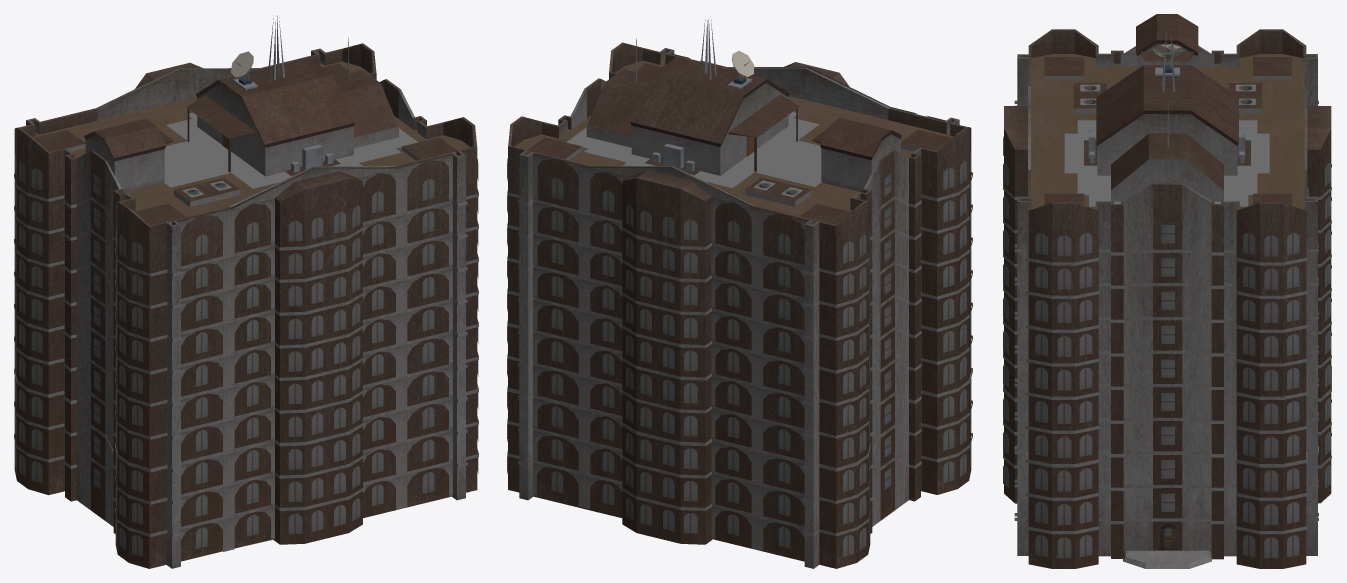
Rendered from ORB_7_S10_Detail_2.fbx.
The picture shows the model from 3 angles, left to right: view 1: azimuth 30°, elevation 25°; view 2: azimuth 150°, elevation 25°; view 3: azimuth 270°, elevation 25°; orthographic projection. The views are drawn at different scales.
Parts seen in each view (by area): view 1: ORB_7_S10_Detail_2; view 2: ORB_7_S10_Detail_2; view 3: ORB_7_S10_Detail_2.
Boxes of the visible parts, x1,y1,x2,y2 form: ORB_7_S10_Detail_2: (14,15,478,568); ORB_7_S10_Detail_2: (507,16,972,568); ORB_7_S10_Detail_2: (1003,14,1331,568).
Bounding box in the file's own units: 2989 × 3739 × 2380.
